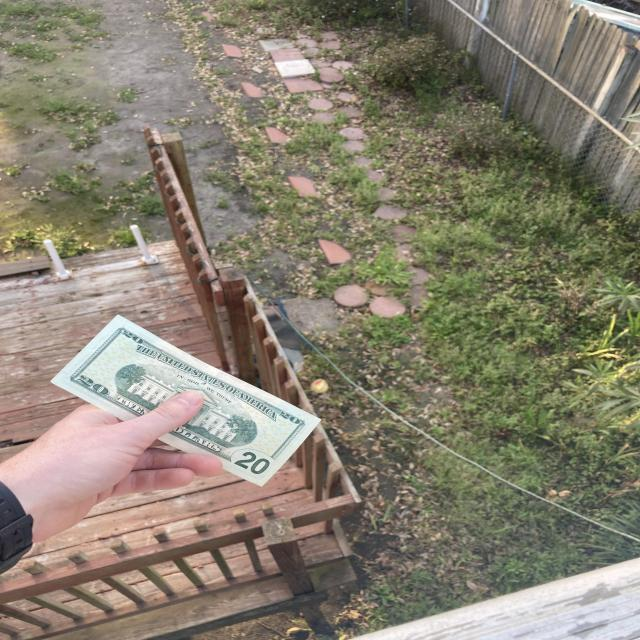twenty: (50, 315, 323, 487)
